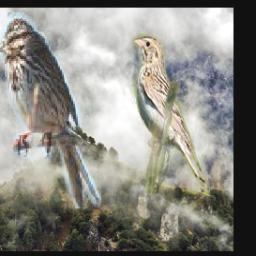Sparrow: (0, 12, 101, 208), (133, 33, 211, 193)
